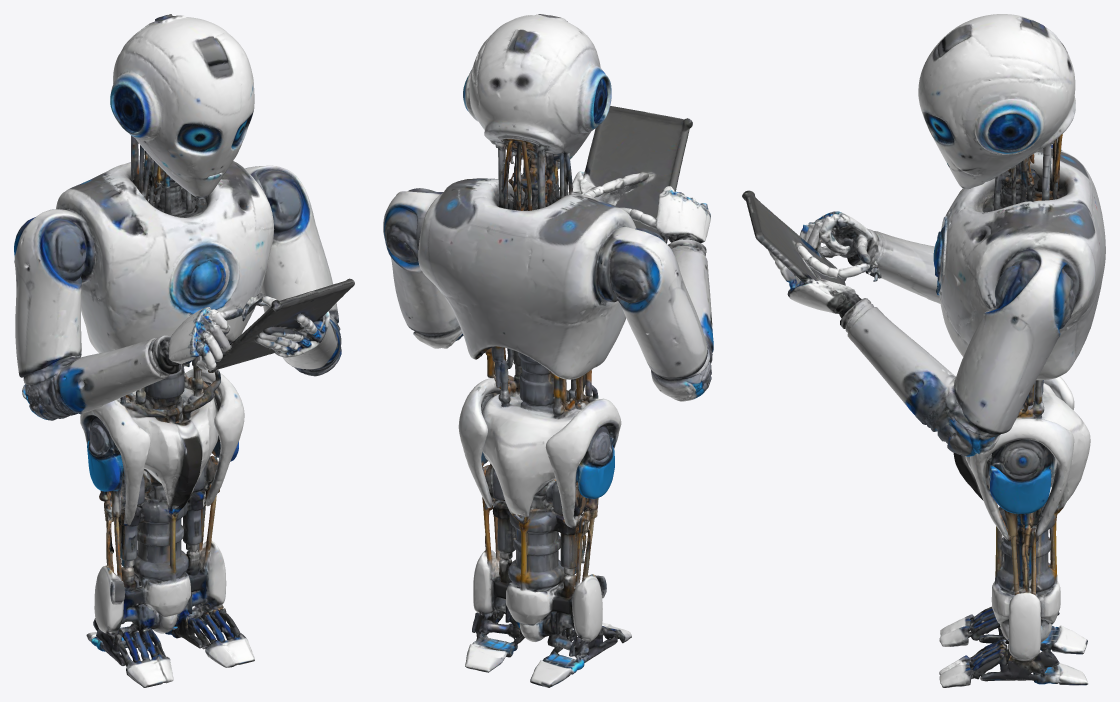
File: ai-consultant.glb
3 renders of one model, left to right at view 1: azimuth 30°, elevation 25°; view 2: azimuth 150°, elevation 25°; view 3: azimuth 270°, elevation 25°, orthographic. The views are drawn at different scales.
Bounding box in the file's own units: 0.9728 × 1.9 × 0.9641.
1 material, 1 textured.
